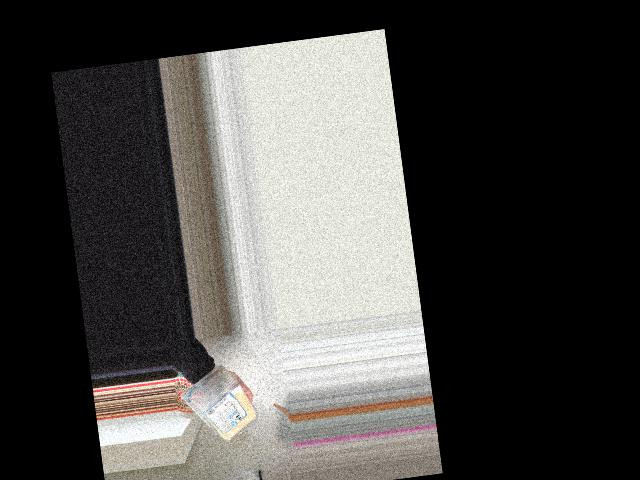cheese: (185, 371, 251, 448)
